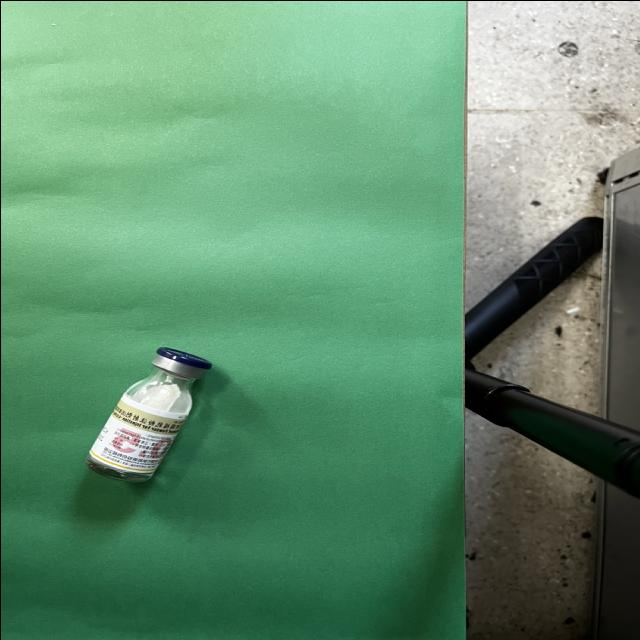Vials: (86, 346, 211, 480)
